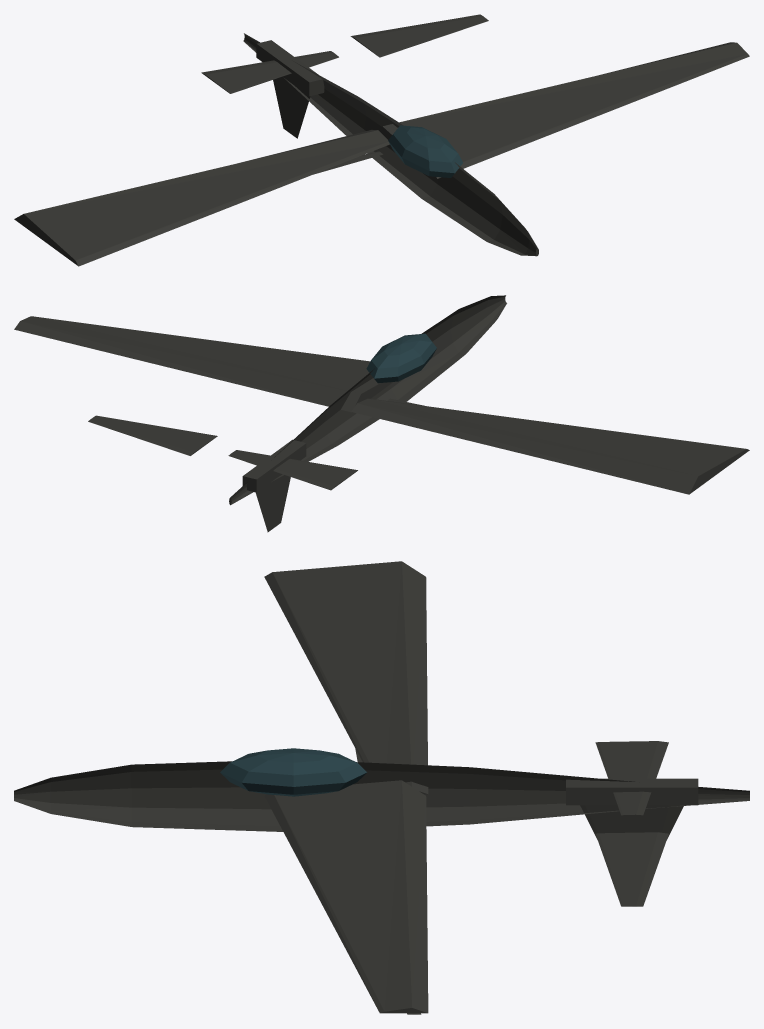
File: lancaster_Destroyed.glb
3 renders of one model, top to bottom at view 1: azimuth 30°, elevation 25°; view 2: azimuth 150°, elevation 25°; view 3: azimuth 270°, elevation 25°, orthographic. The views are drawn at different scales.
Visible parts, largest first — view 1: Wing_L, Wing_R, Fuselage, Cockpit, Elevator_R, Elevator_L, TailBoom, Rudder; view 2: Wing_L, Wing_R, Fuselage, Cockpit, Elevator_R, Elevator_L, TailBoom, Rudder; view 3: Wing_R, Fuselage, Wing_L, Cockpit, Elevator_R, TailBoom, Elevator_L, Rudder.
Boxes of the visible parts, box(x1,y1,x2,y2) form: Wing_L: box(14, 130, 389, 266); Wing_R: box(376, 42, 749, 178); Fuselage: box(243, 33, 538, 256); Cockpit: box(388, 125, 462, 177); Elevator_R: box(350, 14, 488, 57); Elevator_L: box(201, 51, 338, 93); TailBoom: box(256, 40, 324, 96); Rudder: box(273, 76, 310, 138); Wing_L: box(351, 398, 749, 494); Wing_R: box(14, 316, 392, 412); Fuselage: box(229, 295, 506, 505); Cockpit: box(366, 333, 436, 383); Elevator_R: box(88, 415, 217, 455); Elevator_L: box(228, 450, 357, 490); TailBoom: box(242, 439, 306, 492); Rudder: box(256, 474, 290, 532); Wing_R: box(264, 780, 428, 1013); Fuselage: box(14, 761, 749, 831); Wing_L: box(264, 561, 428, 794); Cockpit: box(220, 748, 366, 796); Elevator_R: box(595, 832, 668, 906); TailBoom: box(566, 778, 698, 805); Elevator_L: box(595, 741, 668, 815); Rudder: box(580, 805, 683, 839).
Bounding box in the file's own units: 29.86 × 3.84 × 21.2.
